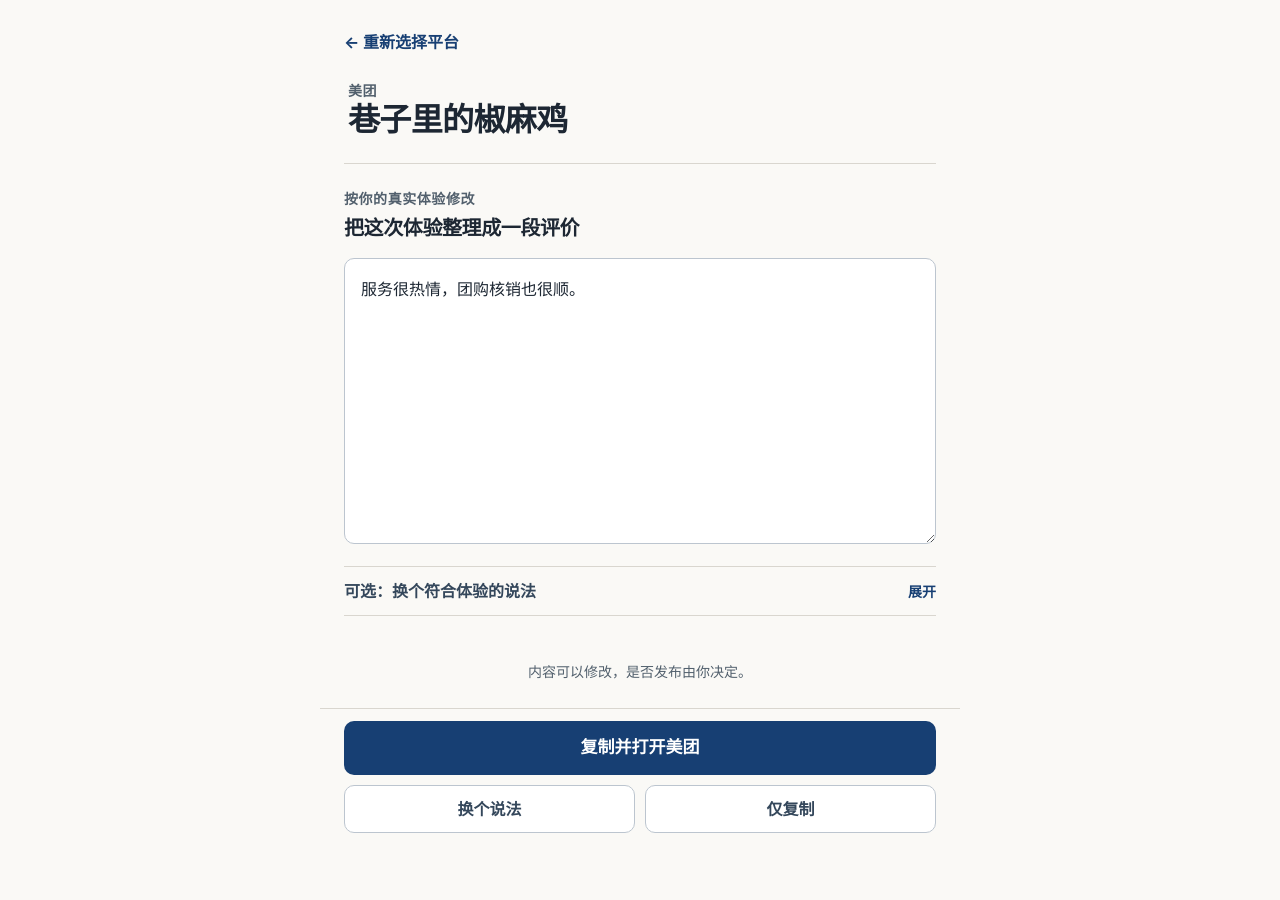
Test: LandingReviewPage › copies, preserves the existing success text, stays on the review page, and draws immediately
Click the button with test id "primary-platform-action" at (640, 748), box [344, 721, 936, 775]
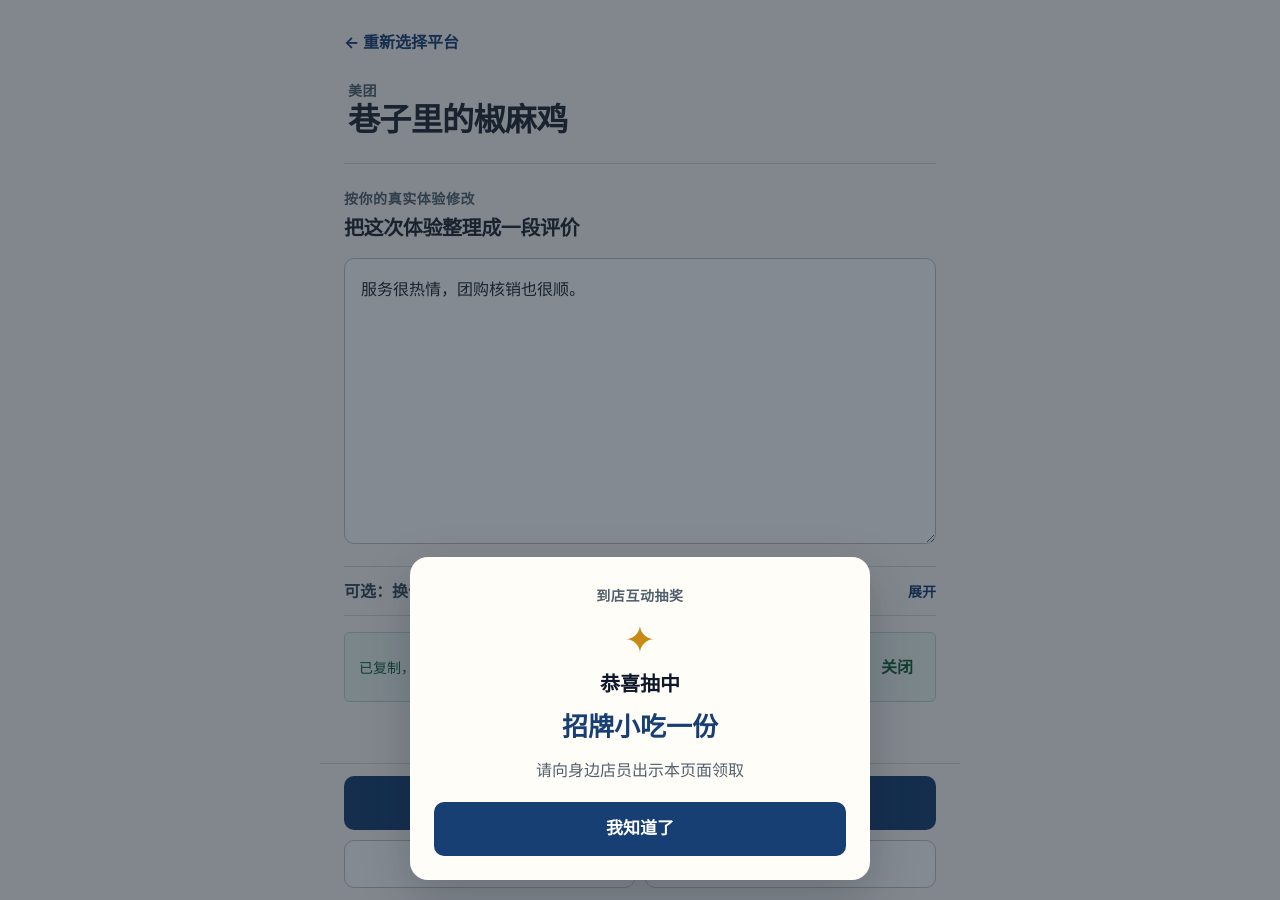
Check: the button with test id "primary-platform-action" reads "复制并打开美团", box [344, 776, 936, 830]
Check: the message "已复制，正在打开美团… 关闭" is shown, box [344, 632, 936, 702]
